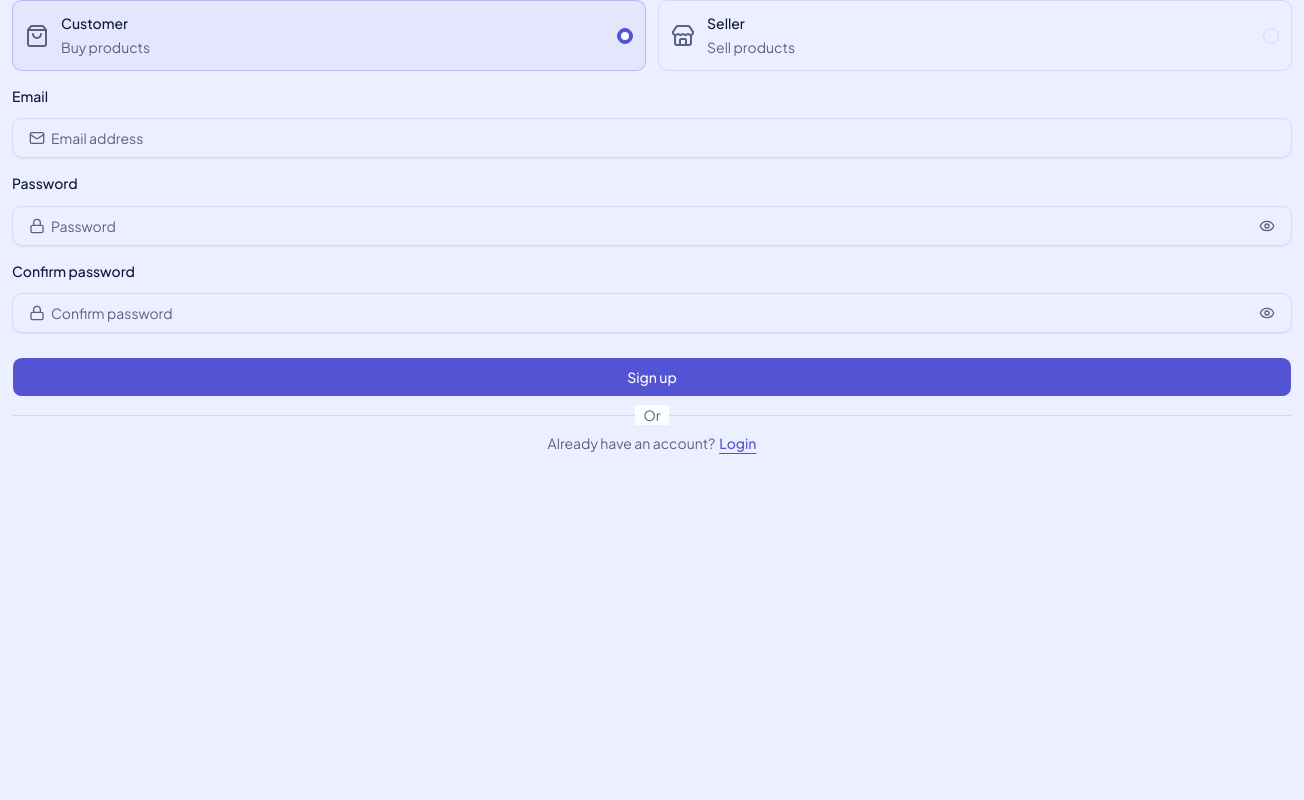
Test: RegisterForm › submit kosong: menampilkan semua pesan wajib diisi dan tidak memanggil register
This screenshot has width=1304, height=800.
Step 1. Click the button "Sign up" → (652, 377), box left=12, top=357, right=1292, bottom=397
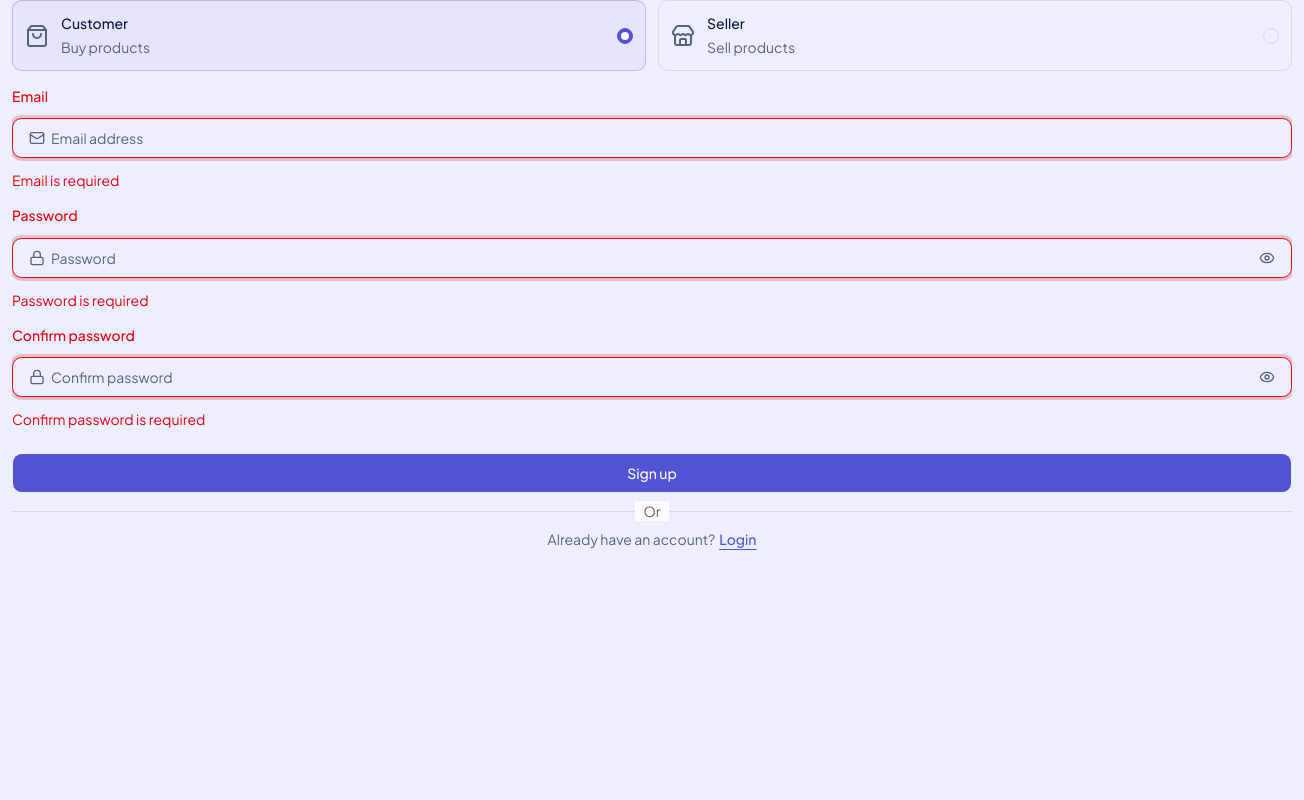
Now the text "Email is required" is shown, box left=12, top=171, right=119, bottom=189
Now the text "Password is required" is shown, box left=12, top=290, right=148, bottom=308
Now the text "Confirm password is required" is shown, box left=12, top=410, right=205, bottom=428
